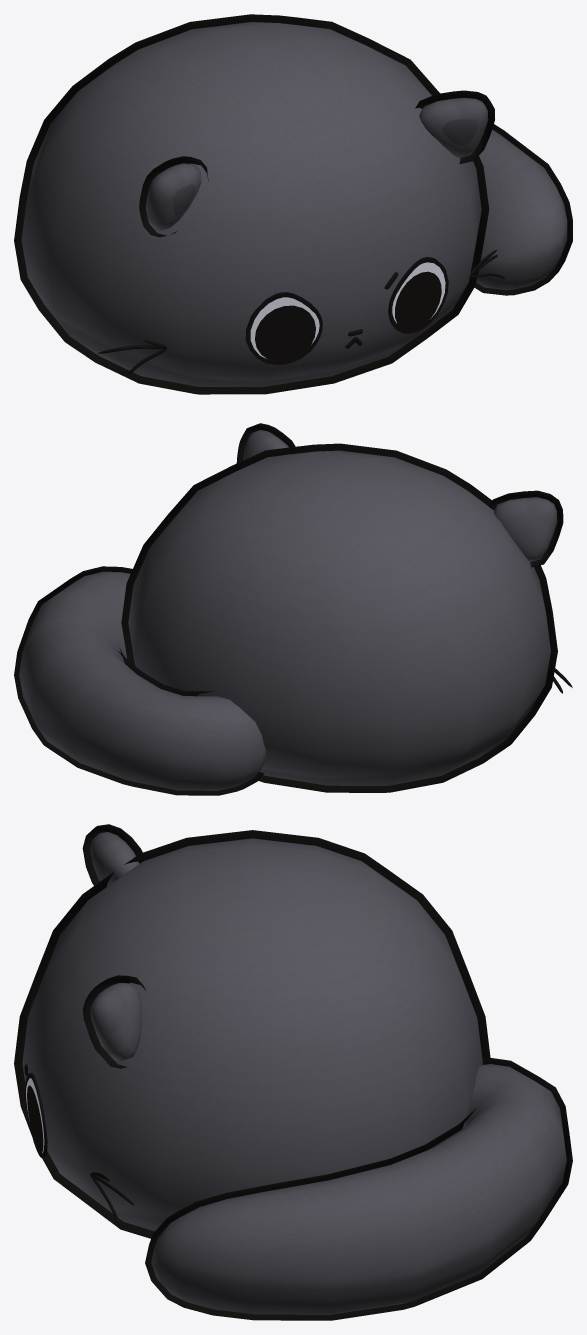
The model's file is cat1.glb.
3 views of the same model, one above another, from view 1: azimuth 30°, elevation 25°; view 2: azimuth 150°, elevation 25°; view 3: azimuth 270°, elevation 25° (orthographic). The views are drawn at different scales.
Parts seen in each view (by area): view 1: Cat, Cat.001, Cube.007, Cube.001, ear_left.002, Cube.008; view 2: Cat, Cube.007, Cat.001, ear_left.002; view 3: Cat, Cube.007, Cat.001, ear_left.002, Cube.001.
Boxes of the visible parts, box(x1,y1,x2,y2) form: Cat: box(21, 22, 481, 386); Cat.001: box(14, 14, 572, 394); Cube.007: box(476, 129, 567, 289); Cube.001: box(245, 256, 448, 364); ear_left.002: box(146, 97, 488, 230); Cube.008: box(98, 340, 167, 374); Cat: box(128, 450, 550, 785); Cube.007: box(19, 571, 266, 790); Cat.001: box(14, 423, 563, 795); ear_left.002: box(243, 430, 557, 561); Cat: box(22, 838, 482, 1231); Cube.007: box(151, 1064, 566, 1314); Cat.001: box(14, 824, 572, 1320); ear_left.002: box(90, 832, 141, 1061); Cube.001: box(25, 998, 47, 1158).
Size of the model in its own units: 1.04 by 0.5856 by 0.9026.
Materials: 1 (1 with a texture image).
